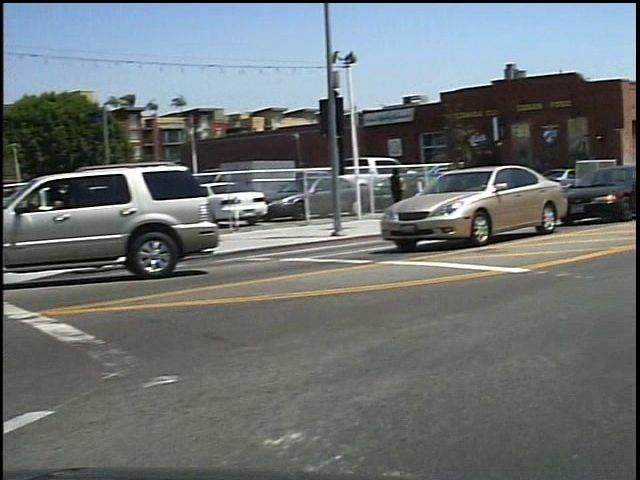person: (392, 168, 418, 227)
